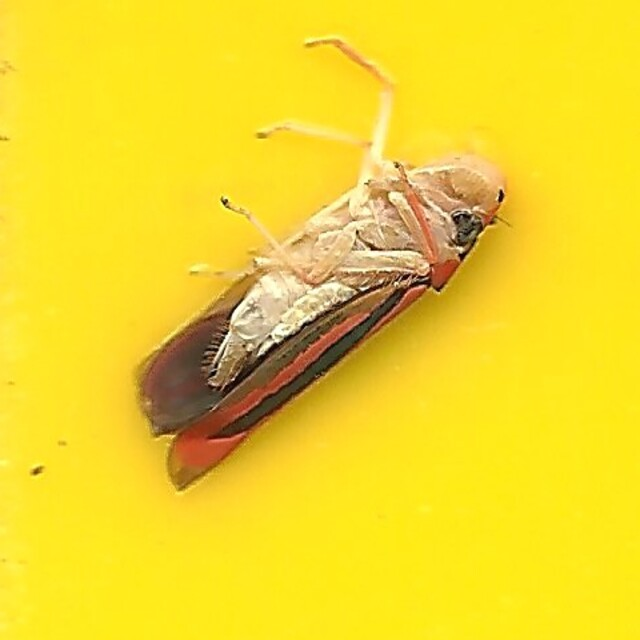Hemiptera: (133, 147, 507, 493)
